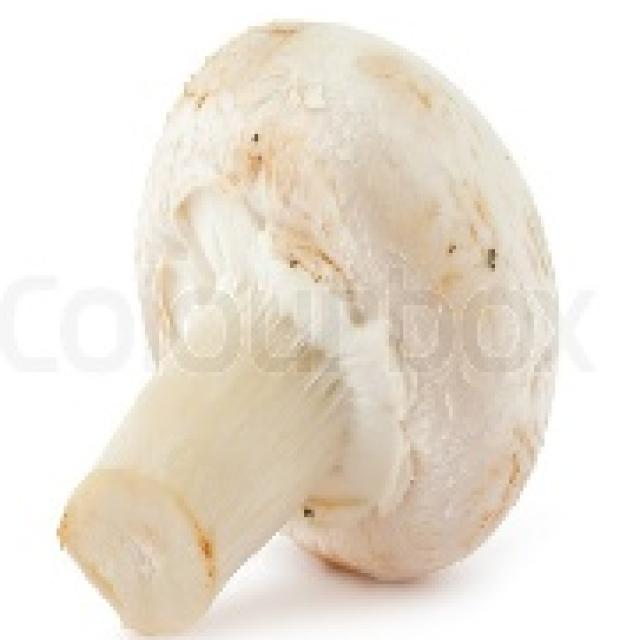mushroom: (60, 7, 555, 640)
